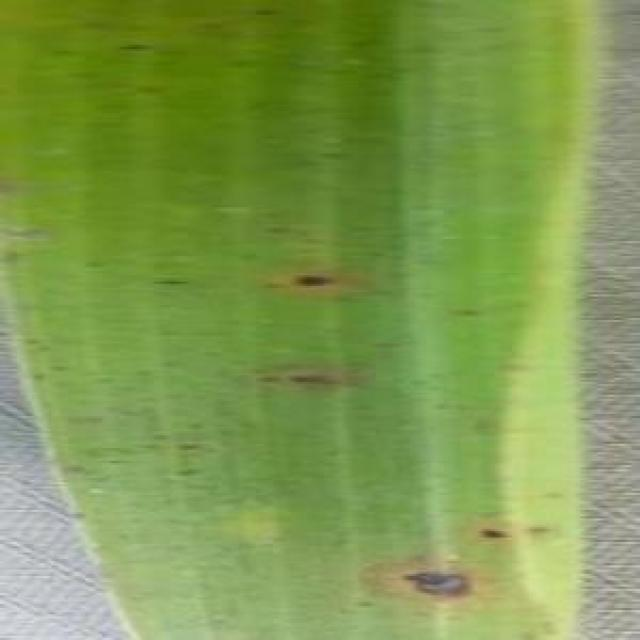Brown_Spot: (71, 8, 390, 205), (56, 406, 296, 582), (391, 566, 486, 616), (262, 363, 341, 394), (282, 263, 336, 291), (474, 522, 514, 553)
